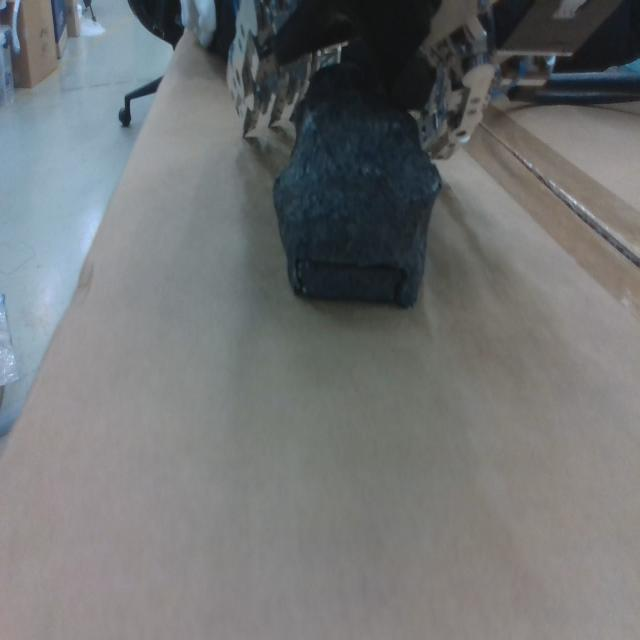stone: (272, 93, 445, 311)
